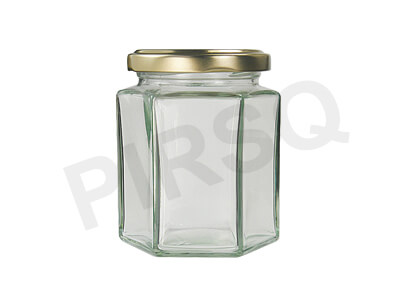glass_bottle: (113, 44, 284, 261)
